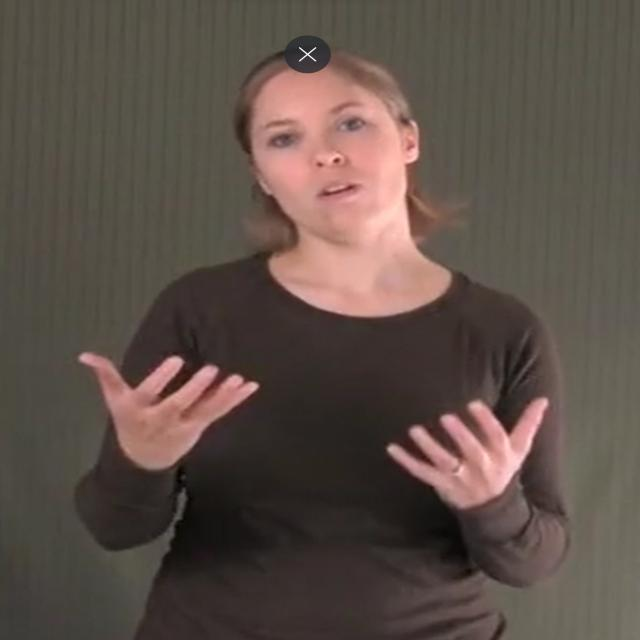want: (82, 353, 549, 507)
